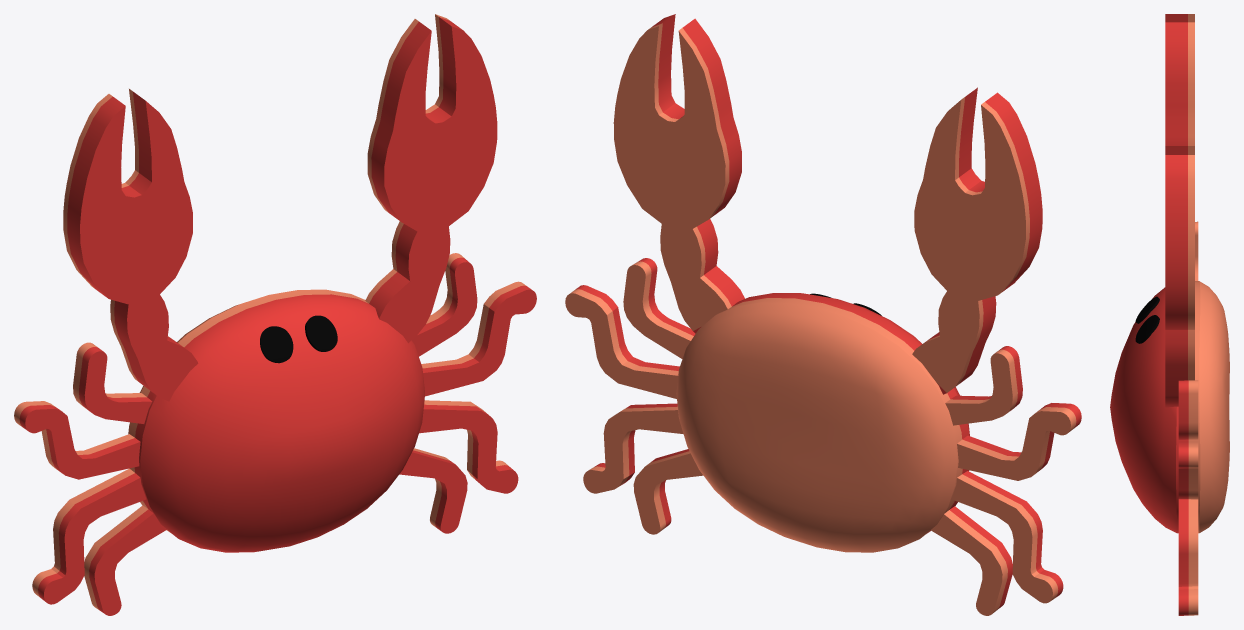
The model's file is crab.glb.
3 renders of one model, left to right at view 1: azimuth 30°, elevation 25°; view 2: azimuth 150°, elevation 25°; view 3: azimuth 270°, elevation 25°, orthographic. The views are drawn at different scales.
Visible parts, largest first — view 1: Cube.182, Circle.2099; view 2: Cube.182; view 3: Cube.182, Circle.2099.
Boxes of the visible parts, x1,y1,x2,y2 form: Cube.182: [14, 14, 536, 615]; Circle.2099: [260, 315, 337, 363]; Cube.182: [565, 14, 1081, 615]; Cube.182: [1110, 14, 1229, 615]; Circle.2099: [1135, 296, 1159, 343].
Size of the model in its own units: 1.97 by 1.9 by 0.4519.
1 material, 1 textured.
